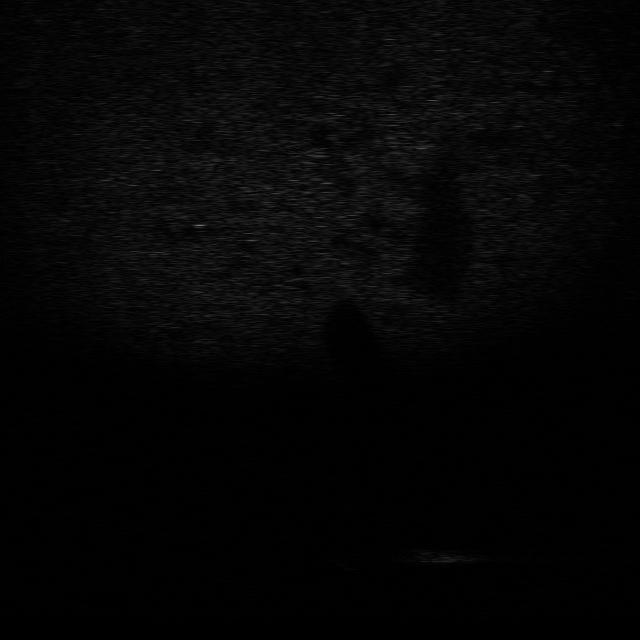ball: (322, 477, 368, 503)
metal bucket: (386, 542, 480, 566)
tyre: (324, 540, 370, 570)
